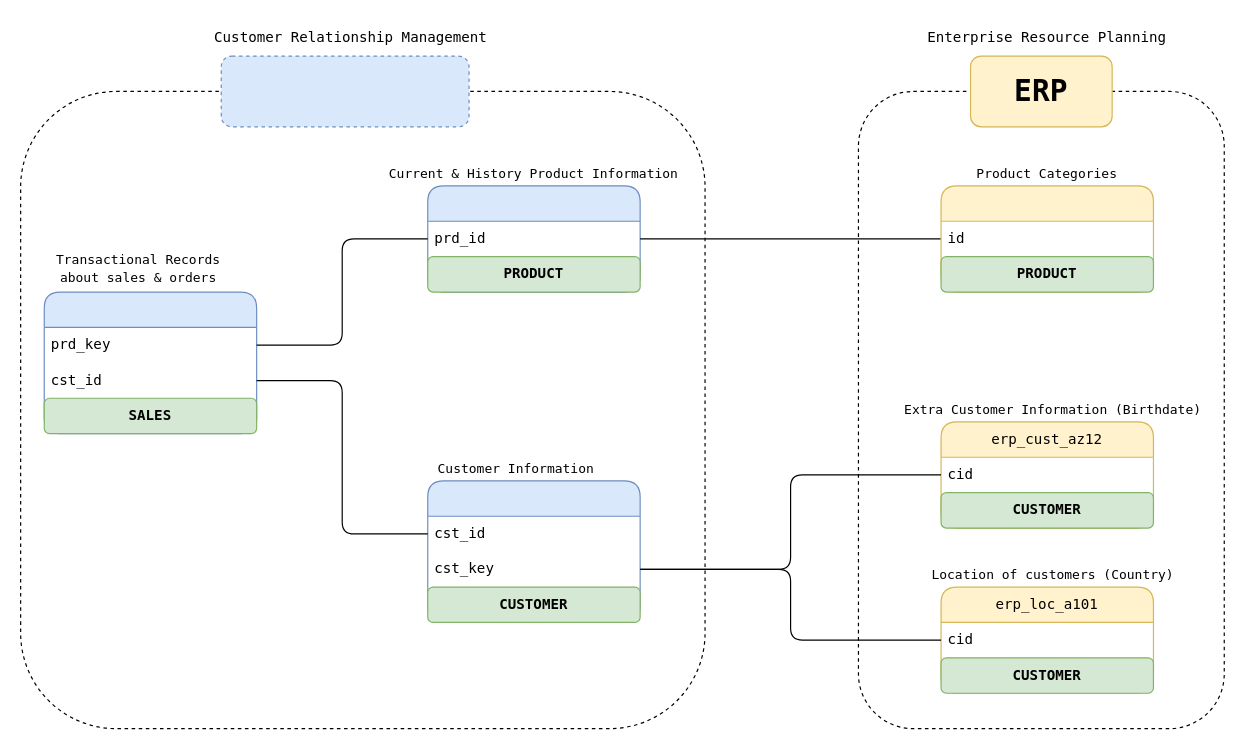
Some shapes in this 1245 by 749 pixel diagram are drawn without their labels. Here are the shapes that lost their labels. From the top down, the box of each, then its label:
(220, 55, 469, 127): CRM
(427, 185, 640, 292): crm_prd_info
(940, 185, 1153, 292): erp_pax_cat_g1v2
(43, 291, 257, 434): crm_sales_details
(427, 480, 640, 622): crm_cust_info
